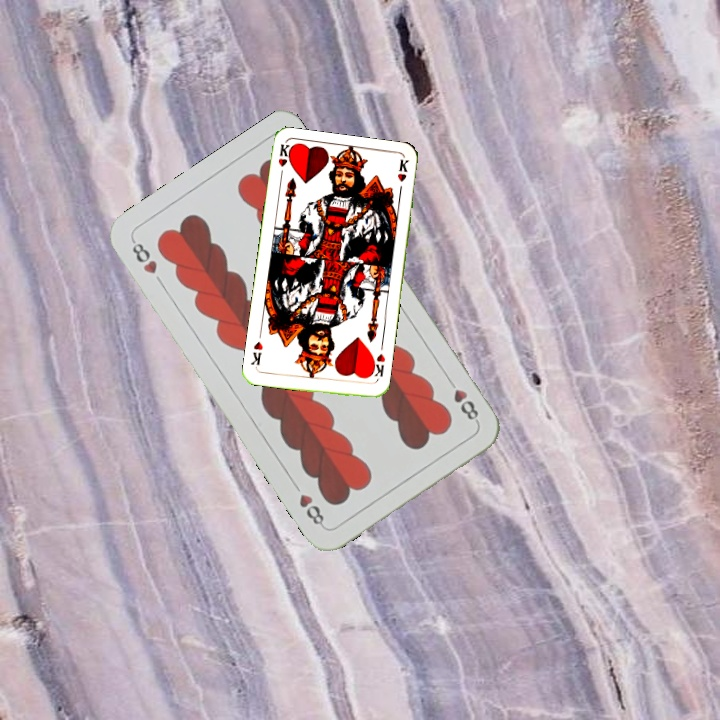H8: (443, 374, 482, 426), (127, 236, 160, 277)
HK: (274, 141, 294, 182), (366, 349, 388, 385)
